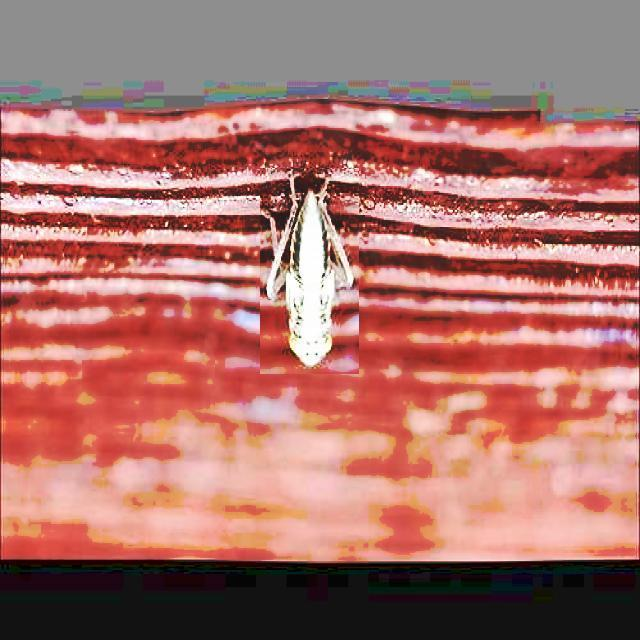green-leafhopper: (260, 168, 359, 374)
